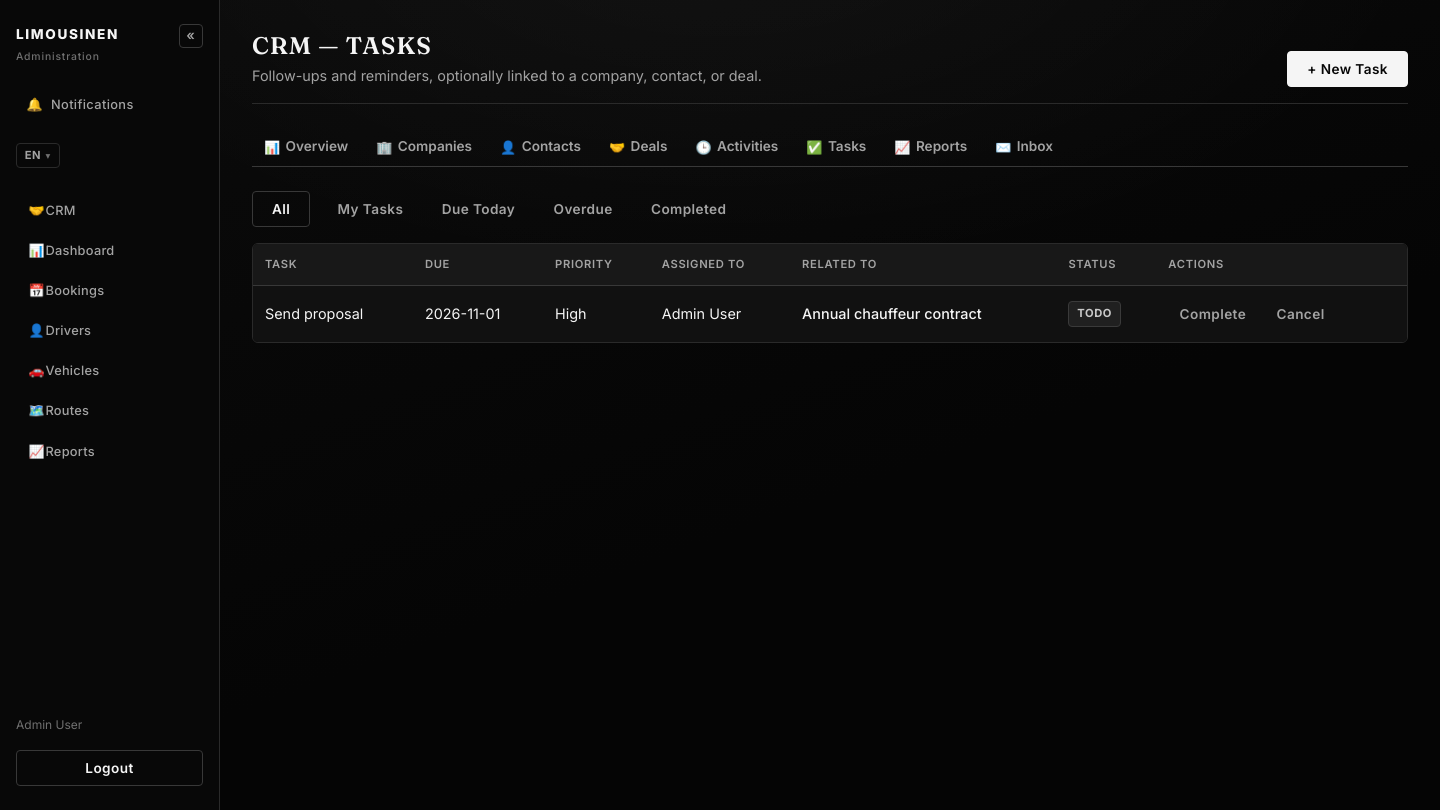
it: CrmTasksPage › completes a task
The image size is (1440, 810).
Check: the text "Send proposal" is shown, box [253,286,413,342]
Click the button "Complete".
click(1213, 314)  # box [1168,298,1257,330]
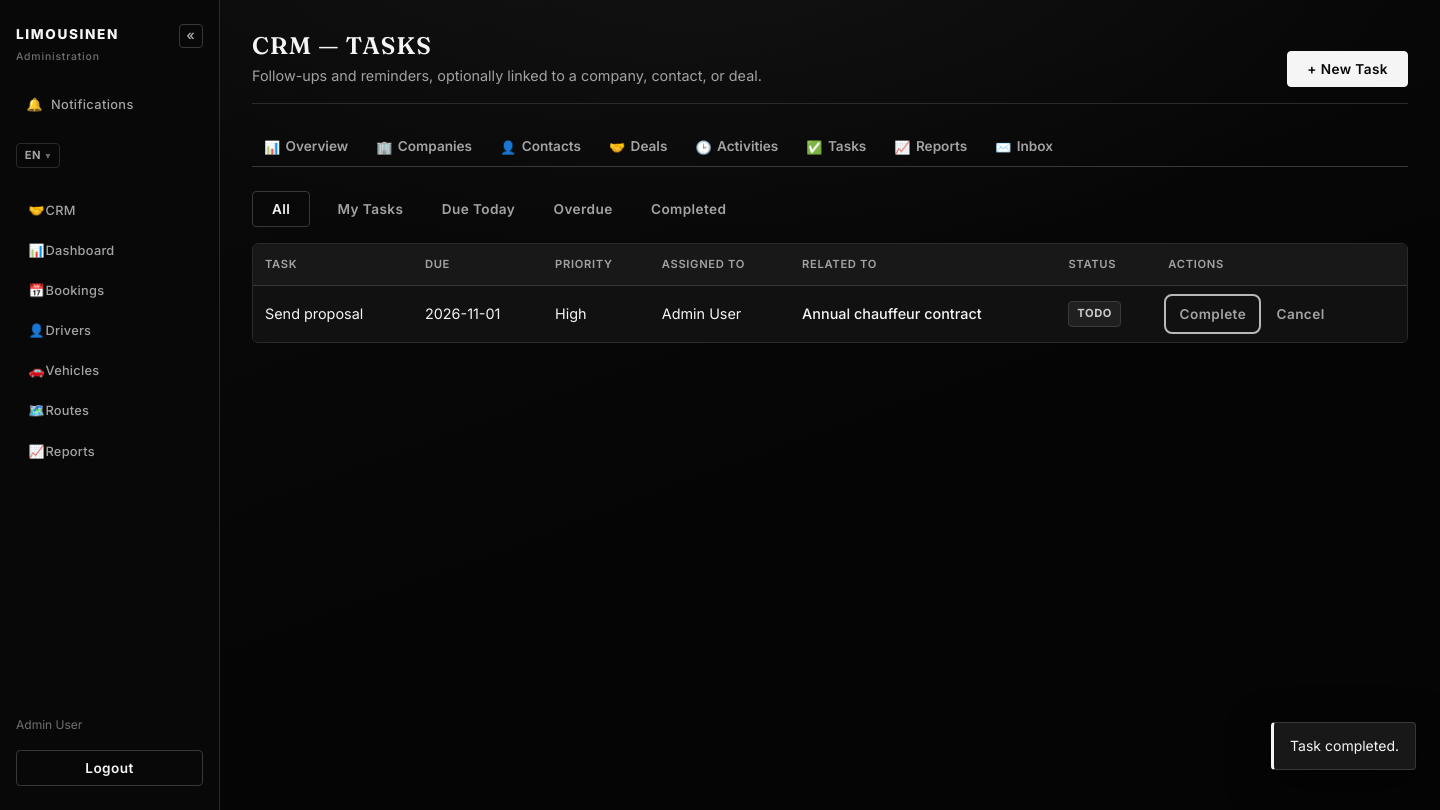
Check: the text "Task completed." is shown, box [1271,722,1416,770]
